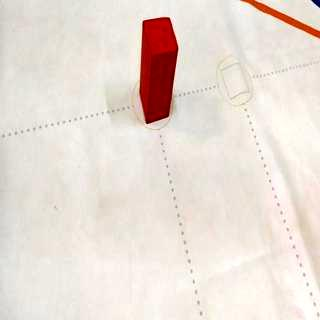redbox: (138, 16, 178, 124)
